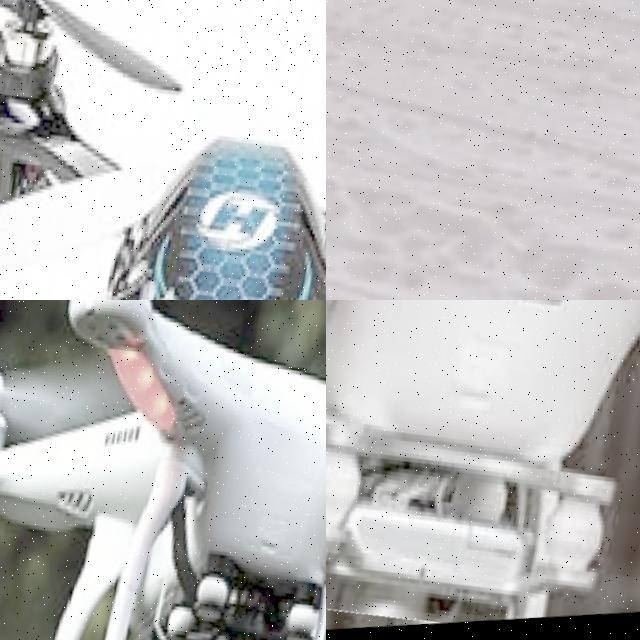drone: (0, 300, 326, 640), (326, 300, 640, 640), (0, 0, 326, 300)
